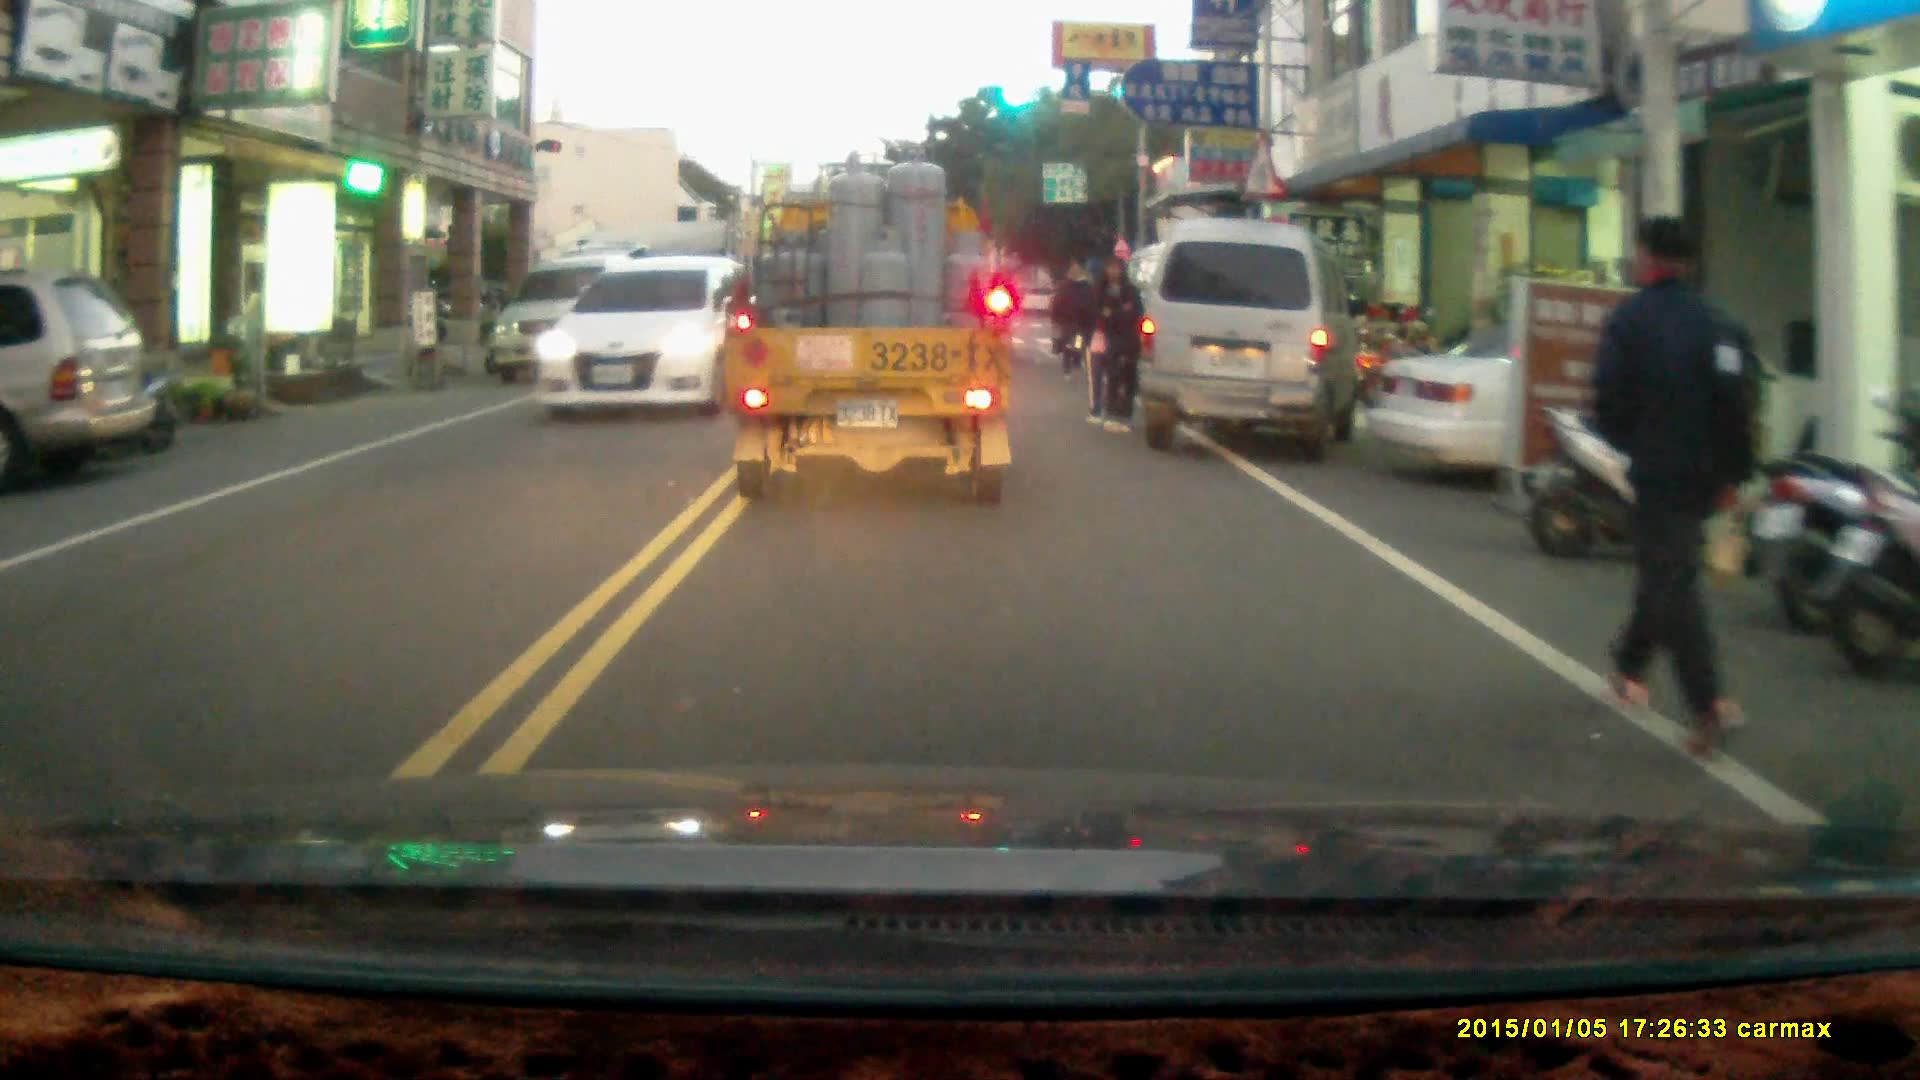pedestrian: (1585, 208, 1764, 761), (1092, 255, 1141, 432), (1050, 254, 1097, 377)
vehicle: (722, 167, 1015, 501), (1364, 306, 1845, 501), (1137, 211, 1364, 455), (534, 250, 786, 411), (1, 266, 157, 476)
